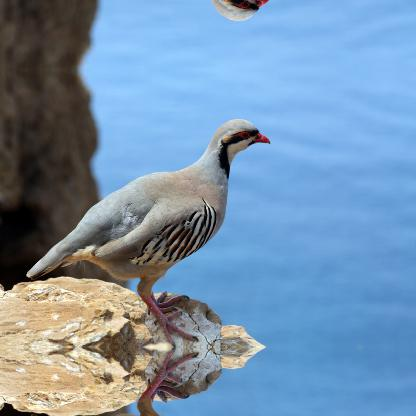Bird: (20, 120, 256, 322), (20, 369, 256, 415)
